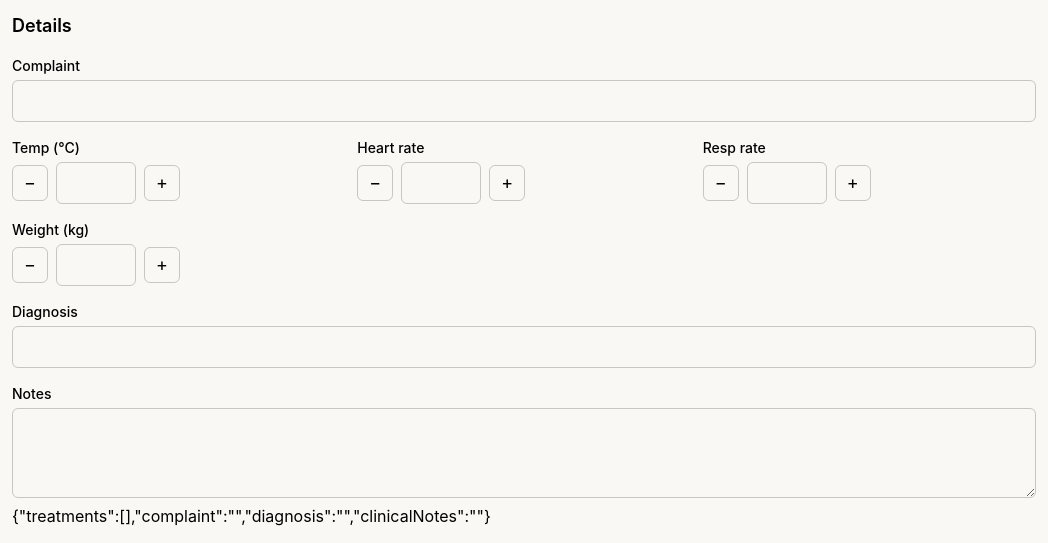
Test: DetailsStep › types a complaint into the text field
The width and height of the screenshot is (1048, 543).
Step 1. Type "Vomiting" into the field labelled "Complaint" → {"x": 524, "y": 101}, box [12,80,1036,122]
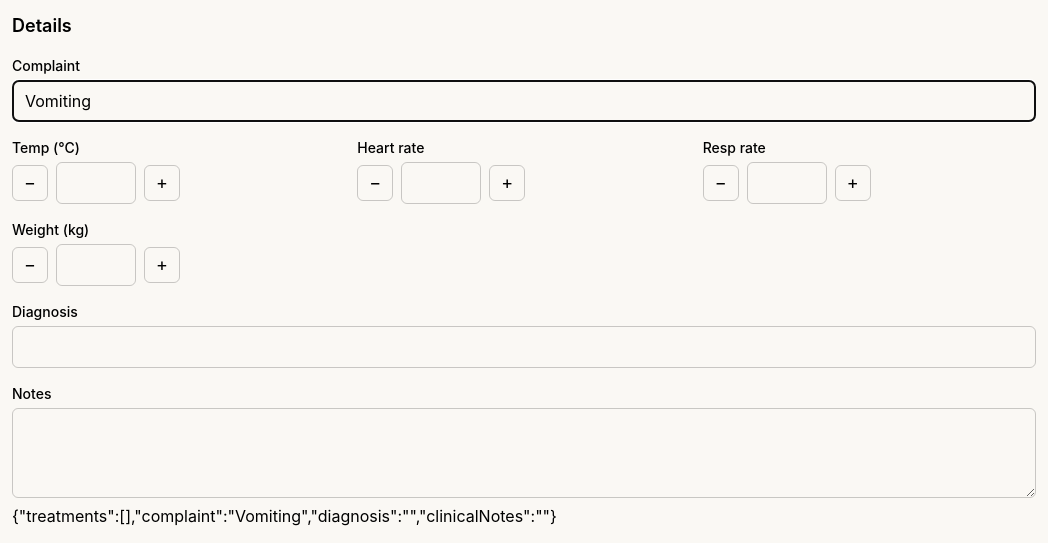
Expected: the text with test id "probe" shows "\"complaint\":\"Vomiting\"", [12,506,557,526]
